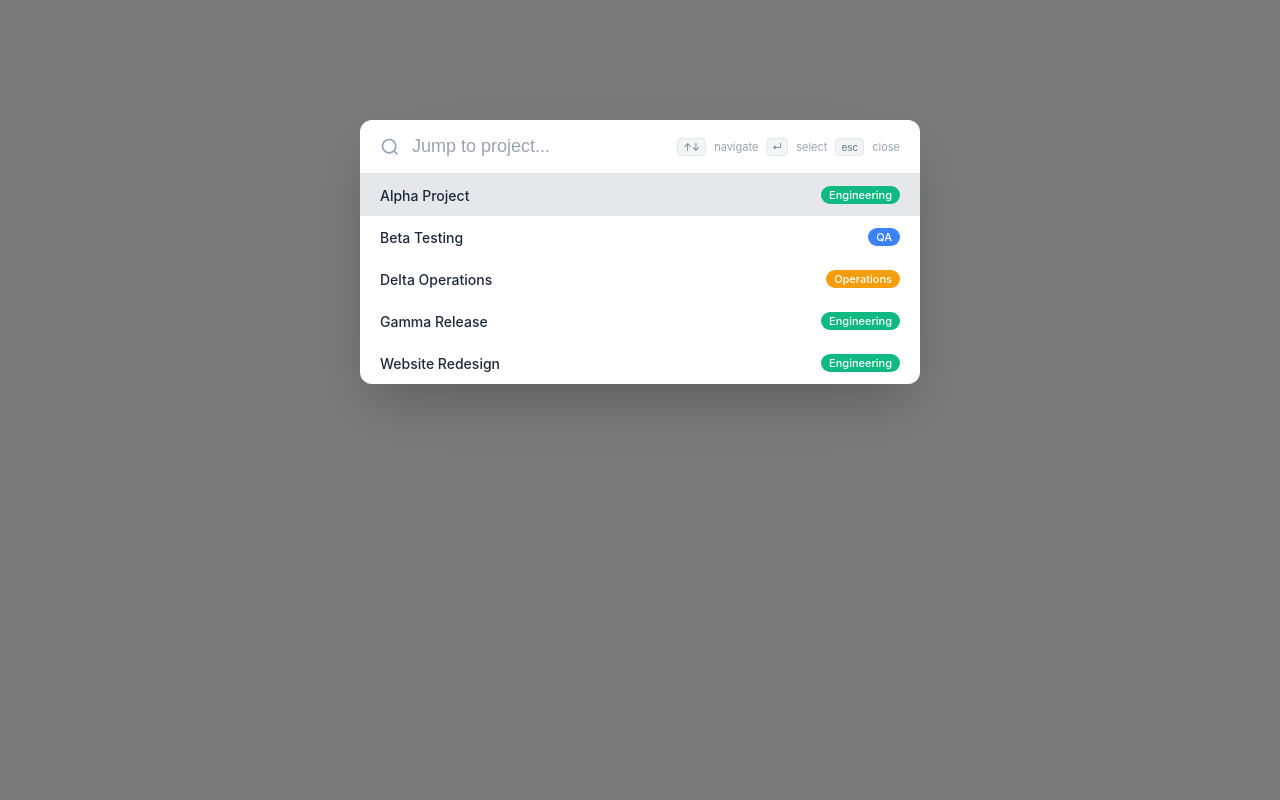
Test case: JumpToProject › Search Functionality › should filter projects based on search term
Check: the text "Alpha Project" is shown, box [380,186,469,204]
In the field with placeholder "Jump to project...": (539,146) [412,136,666,157], type "Alpha"
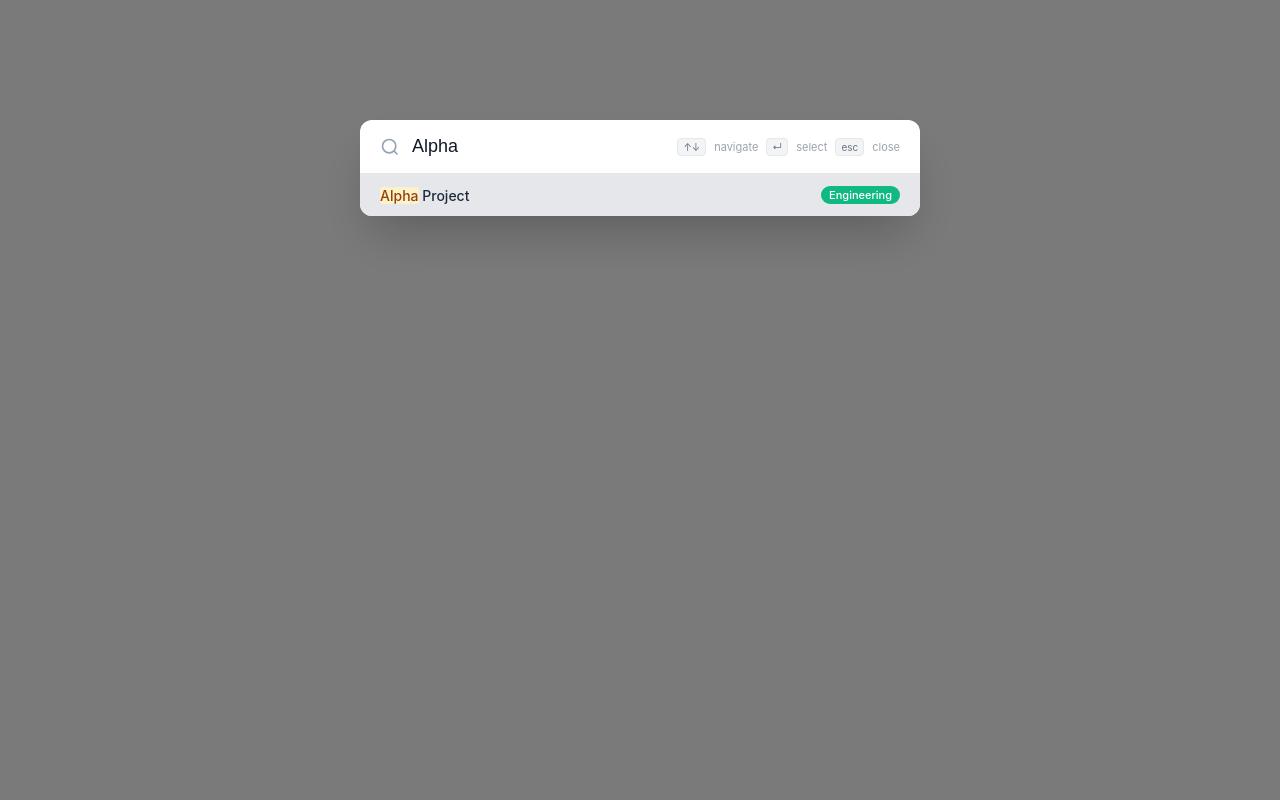
Check: the element with class "jump-result-item" shows "Alpha", box [360,174,920,216]
Check: the number of elements with class "jump-result-item" is 1, box [360,174,920,216]
Check: the text "Beta Testing" is gone
